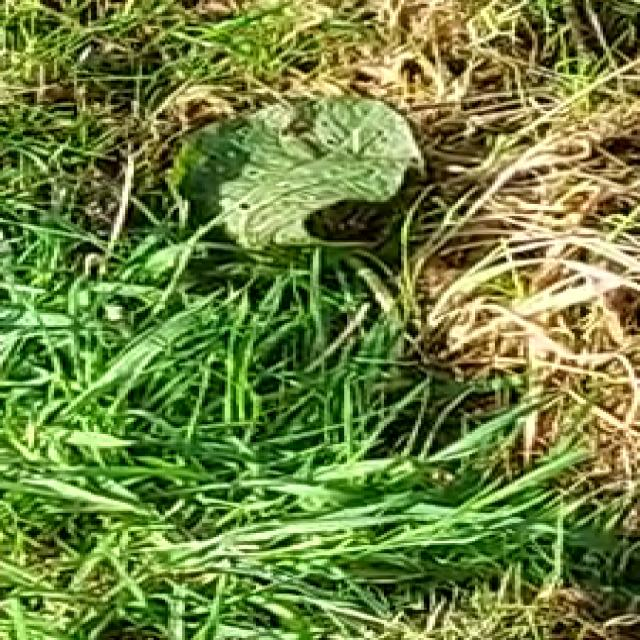organic waste: (102, 59, 532, 325)
